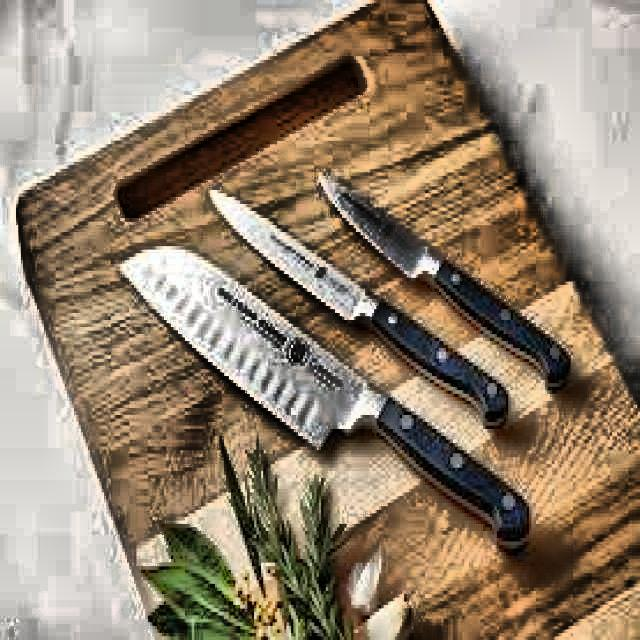knife: (121, 242, 541, 556), (208, 178, 517, 434), (316, 171, 582, 408)
